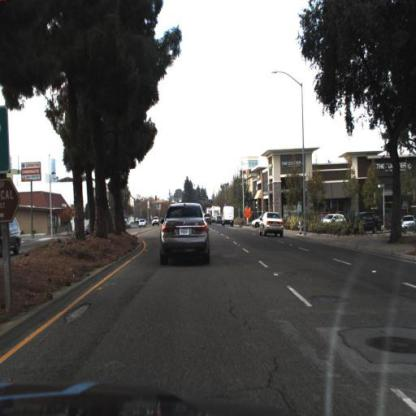car: (160, 198, 211, 269), (351, 210, 385, 240), (1, 216, 25, 256), (258, 214, 284, 243), (320, 211, 349, 234), (221, 202, 238, 231), (138, 216, 148, 232)
truck: (222, 207, 235, 228)
